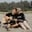face: (15, 7, 24, 16), (10, 7, 17, 15)
